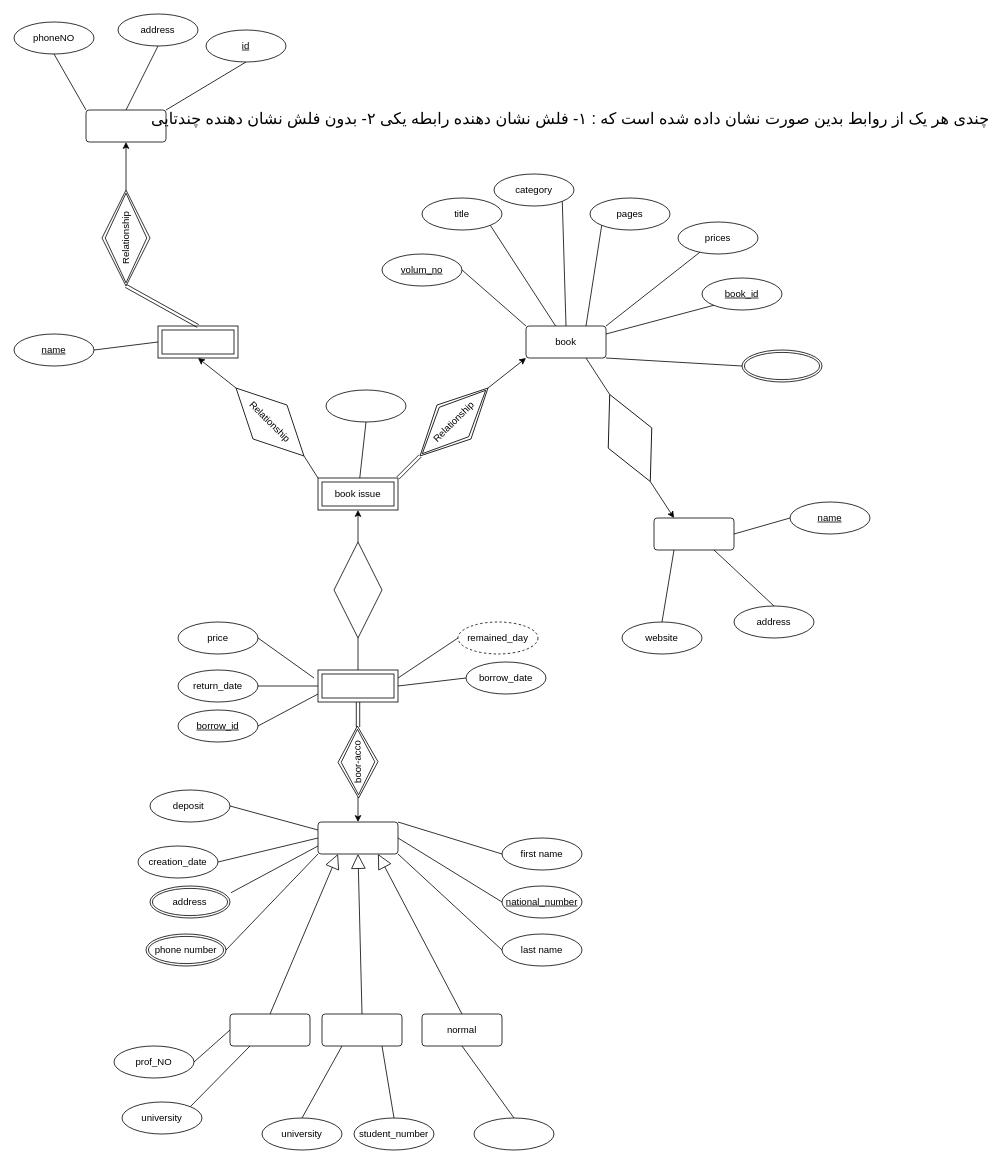
This 1003x1164 diagram has some shape labels left out. The centre of each missing label's shape, as x and y in pixels:
"account" belongs at (x=357, y=837).
"book_issue_id" belongs at (x=365, y=405).
"borr_book_issue" belongs at (x=357, y=589).
"borrow" belongs at (x=357, y=685).
"branch" belongs at (x=125, y=125).
"job" belongs at (x=513, y=1133).
"professor" belongs at (x=269, y=1029).
"pub-bk" belongs at (x=629, y=437).
"publisher" belongs at (x=693, y=533).
"storage" belongs at (x=197, y=341).
"student" belongs at (x=361, y=1029).
"writer_name" belongs at (x=781, y=365).
